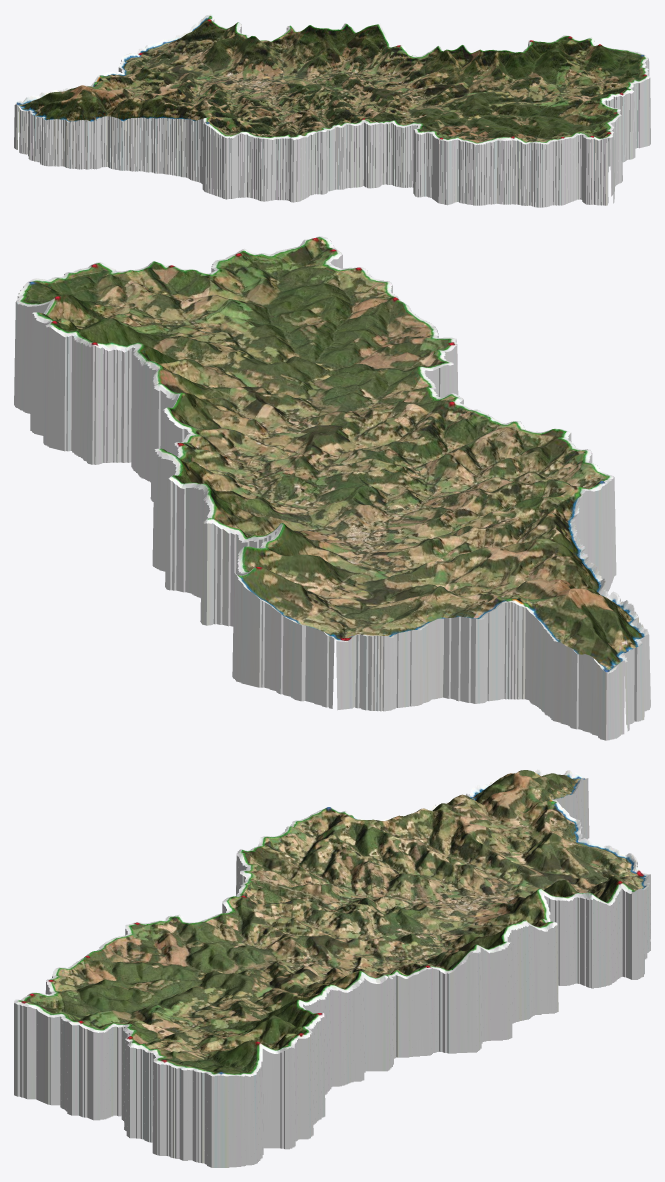
The picture shows the model from 3 angles, top to bottom: view 1: azimuth 30°, elevation 25°; view 2: azimuth 150°, elevation 25°; view 3: azimuth 270°, elevation 25°; orthographic projection. The views are drawn at different scales.
Size of the model in its own units: 1 by 0.1448 by 0.8033.
1 material, 1 textured.
